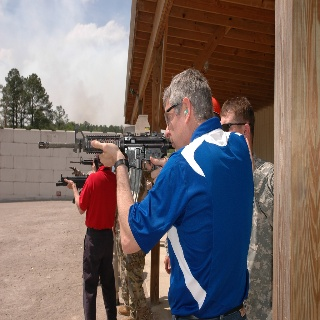rifle: (37, 126, 174, 191)
